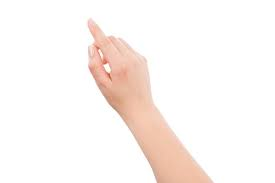hand: (72, 14, 183, 127)
